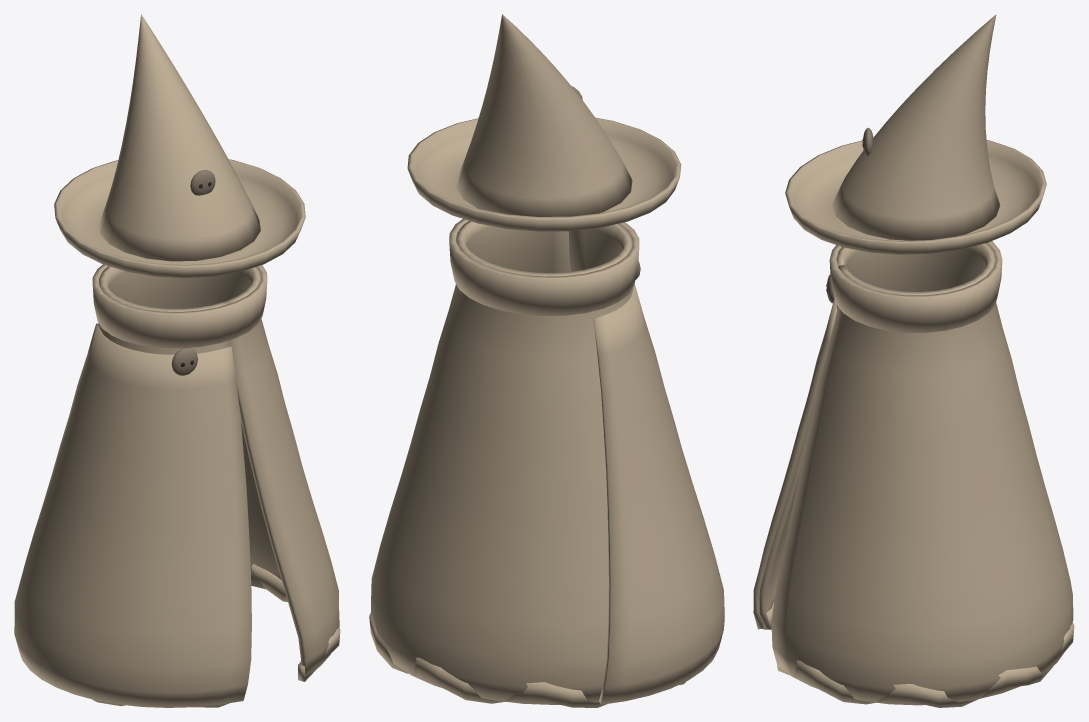
The model's file is traveler_outfit.glb.
The picture shows the model from 3 angles, left to right: view 1: azimuth 30°, elevation 25°; view 2: azimuth 150°, elevation 25°; view 3: azimuth 270°, elevation 25°; orthographic projection. The views are drawn at different scales.
Visible parts, largest first — view 1: TravelerOutfit; view 2: TravelerOutfit; view 3: TravelerOutfit.
Part boxes in pixels (x1,y1,x2,y2): TravelerOutfit: (14, 14, 340, 707); TravelerOutfit: (369, 14, 724, 707); TravelerOutfit: (753, 14, 1074, 707).
Size of the model in its own units: 0.6245 by 1.25 by 0.5785.
